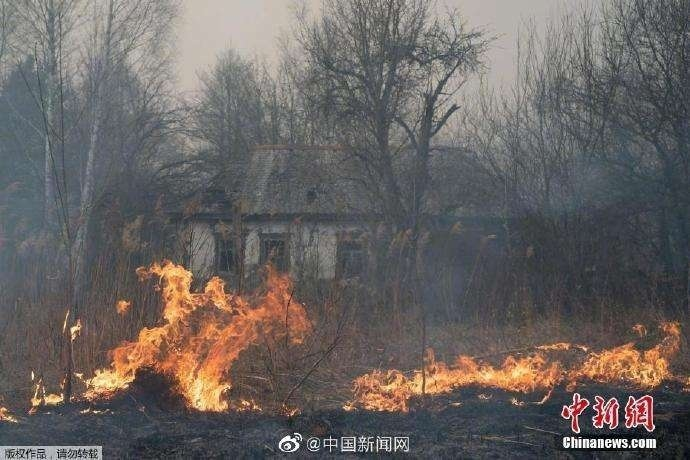fire: (7, 258, 309, 419), (337, 318, 684, 406)
